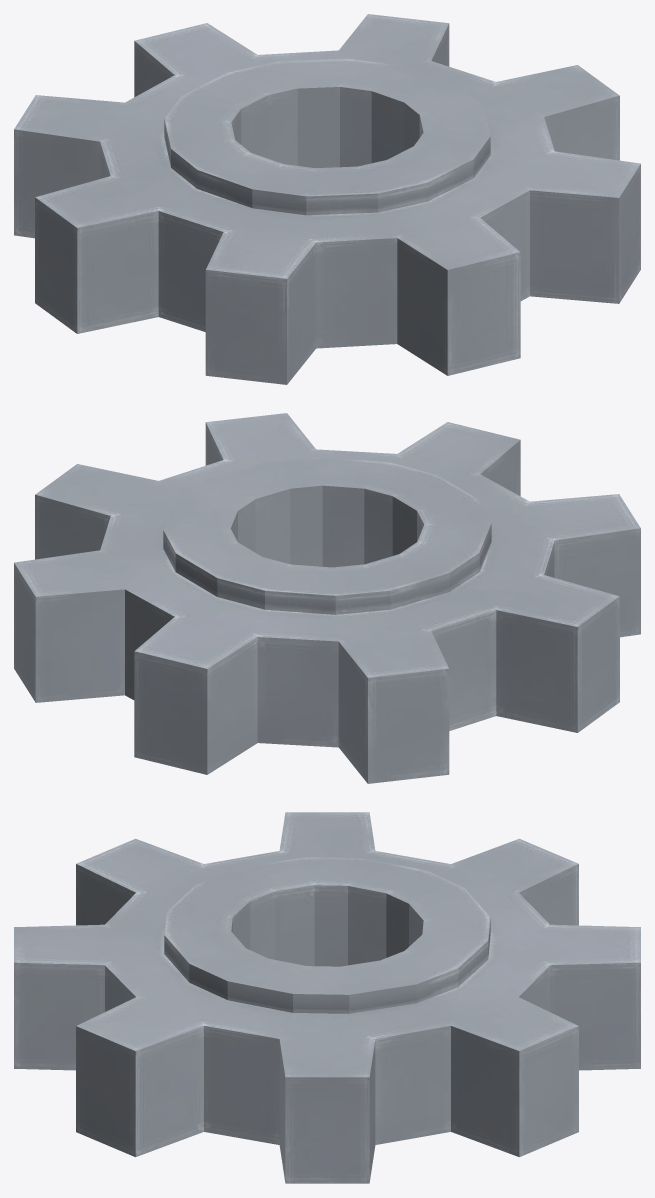
The model's file is res_gear.glb.
The picture shows the model from 3 angles, top to bottom: view 1: azimuth 30°, elevation 25°; view 2: azimuth 150°, elevation 25°; view 3: azimuth 270°, elevation 25°; orthographic projection.
Parts seen in each view (by area): view 1: res_gear; view 2: res_gear; view 3: res_gear.
Part boxes in pixels (x1,y1,x2,y2): res_gear: [14, 14, 640, 384]; res_gear: [14, 413, 640, 783]; res_gear: [14, 812, 640, 1183].
Size of the model in its own units: 0.3 by 0.076 by 0.3.
Materials: 1 (1 with a texture image).
